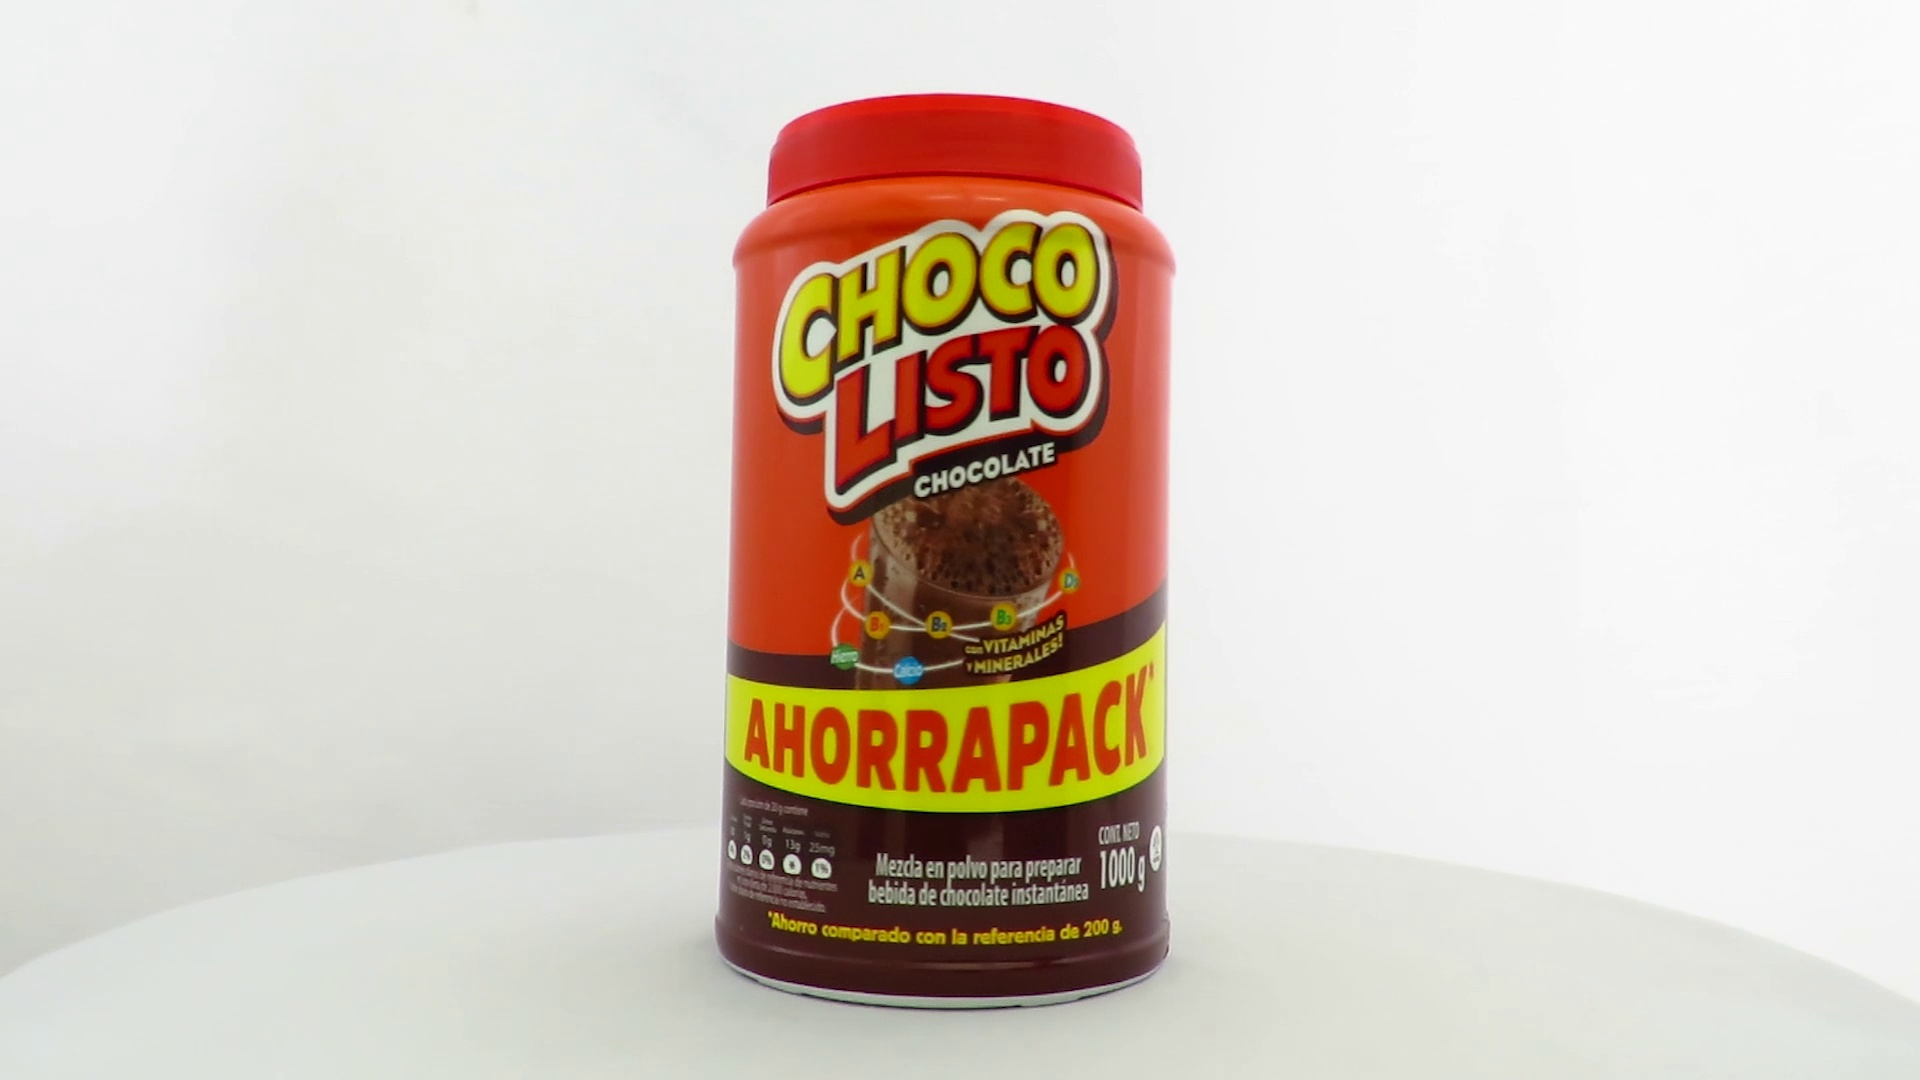COL0170103TRR00100: (709, 88, 1178, 1017)
